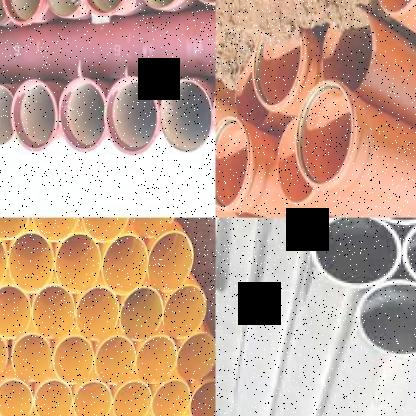pipe: (294, 79, 354, 187), (310, 218, 401, 287), (357, 279, 416, 355), (104, 76, 158, 156), (251, 28, 304, 109), (322, 8, 373, 92), (160, 79, 212, 153), (11, 78, 58, 152), (58, 77, 104, 152), (277, 116, 315, 204), (215, 115, 250, 208), (102, 234, 148, 296), (56, 232, 102, 293), (148, 231, 193, 293), (8, 233, 54, 293), (162, 285, 206, 339), (120, 287, 163, 342), (76, 286, 119, 341), (31, 285, 74, 339), (136, 334, 177, 384), (95, 336, 136, 384), (11, 334, 52, 382), (54, 336, 94, 383), (176, 332, 215, 379), (0, 284, 31, 339), (112, 379, 152, 416), (151, 379, 190, 416), (71, 380, 111, 416), (33, 379, 71, 416), (80, 218, 131, 243), (0, 379, 33, 416), (31, 218, 81, 242), (1, 0, 44, 26), (188, 378, 216, 416), (131, 218, 178, 238), (403, 218, 416, 290), (79, 0, 131, 17), (0, 85, 14, 146), (0, 218, 30, 239), (45, 0, 82, 17), (376, 0, 416, 13), (0, 232, 8, 292), (0, 330, 8, 378), (0, 0, 8, 26)
